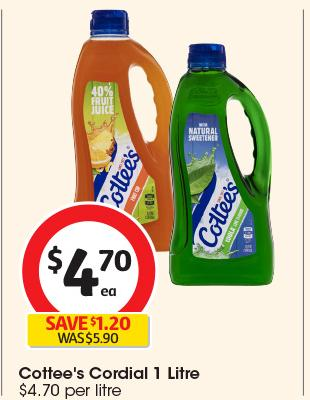description_block: (8, 356, 215, 385)
price_main: (6, 204, 156, 312)
product_image_block: (81, 22, 288, 291)
promo_text_block: (21, 311, 153, 349)
unit_price_block: (9, 379, 124, 400)
